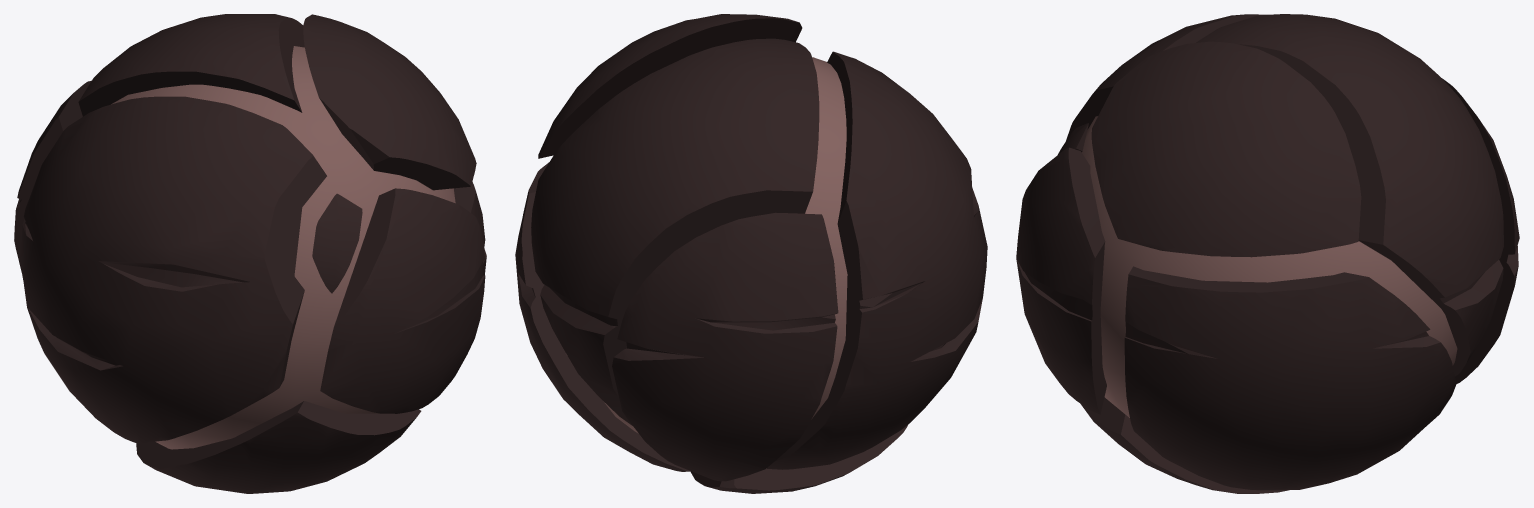
File: quaternius-ultimate-space-planet-11.glb
3 views of the same model, side by side, from view 1: azimuth 30°, elevation 25°; view 2: azimuth 150°, elevation 25°; view 3: azimuth 270°, elevation 25° (orthographic). The views are drawn at different scales.
Visible parts, largest first — view 1: Planet_11; view 2: Planet_11; view 3: Planet_11.
Part boxes in pixels (x1,y1,x2,y2): Planet_11: (14, 14, 486, 493); Planet_11: (515, 14, 987, 493); Planet_11: (1016, 14, 1519, 493).
Bounding box in the file's own units: 5.59 × 5.67 × 5.74.
1 material, 1 textured.
